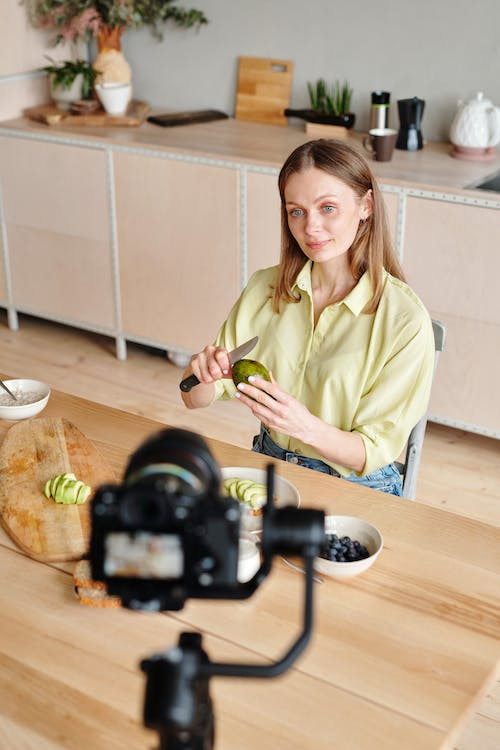knife: (226, 333, 260, 368)
